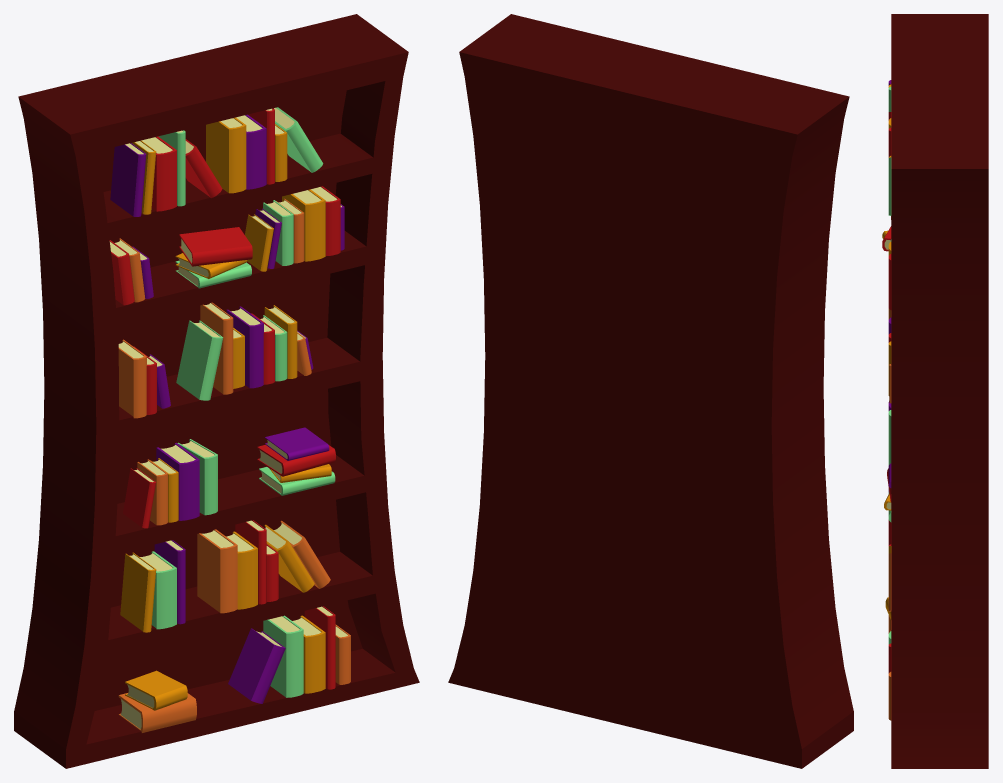
File: kastGR.fbx
3 views of the same model, side by side, from view 1: azimuth 30°, elevation 25°; view 2: azimuth 150°, elevation 25°; view 3: azimuth 270°, elevation 25° (orthographic). The views are drawn at different scales.
Parts seen in each view (by area): view 1: kast; view 2: kast; view 3: kast.
Part boxes in pixels (x1,y1,x2,y2): kast: (14,14,419,768); kast: (448,14,853,768); kast: (882,14,988,768).
Bounding box in the file's own units: 96.02 × 164 × 26.69.
